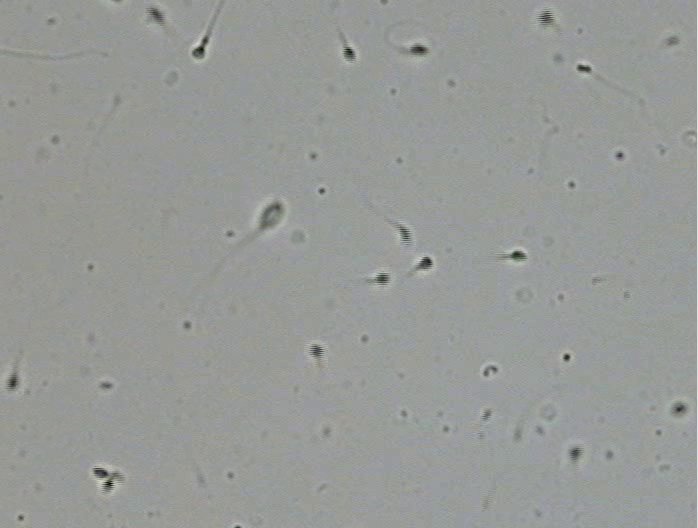S: (258, 201, 285, 228), (146, 7, 165, 25), (536, 9, 555, 26), (398, 226, 412, 246), (308, 344, 325, 360), (417, 256, 433, 271), (409, 44, 429, 56), (342, 45, 356, 62), (5, 373, 18, 391), (375, 272, 390, 286), (92, 467, 109, 479), (511, 250, 528, 262), (101, 479, 114, 494), (569, 446, 582, 461), (672, 403, 686, 416), (192, 46, 205, 59), (576, 64, 592, 73)
